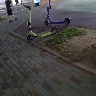beam: (40, 1, 73, 27)
gcooter: (21, 3, 60, 44)
